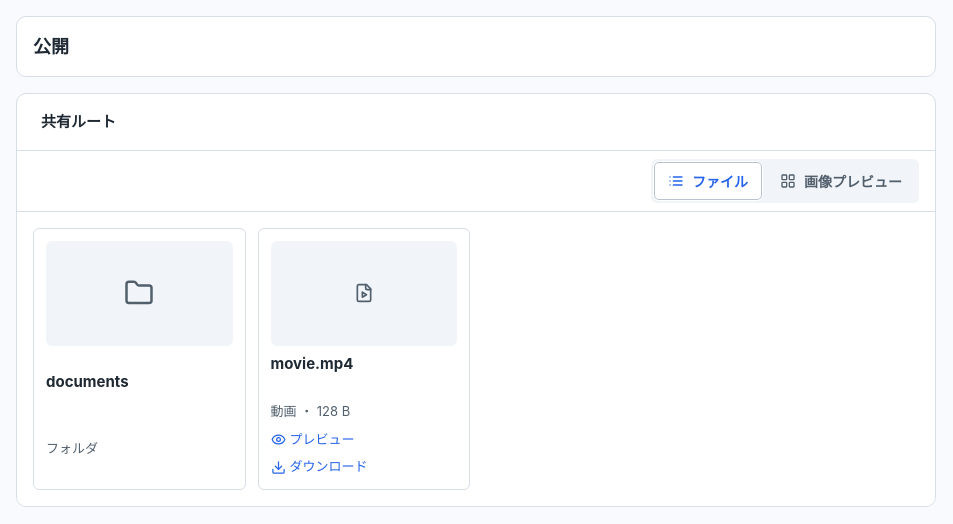
it: PublicSharePage password unlock › shows a folder share list and opens a subfolder
Expected: the text "documents" is shown, [46,372,129,391]
Expected: the text "movie.mp4" is shown, [270,354,353,373]
Click the button with aria-label "documents を開く". click: (139, 359)
box: [46,241,232,477]
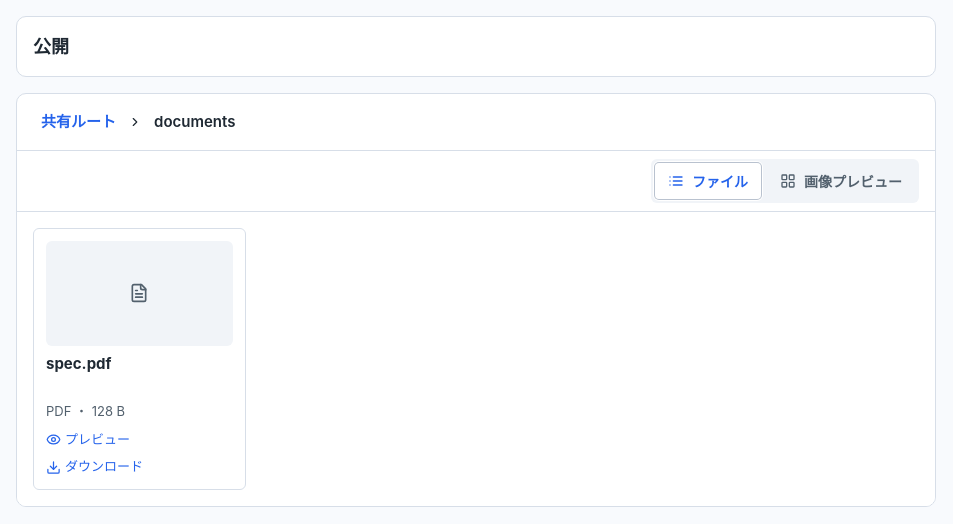
Now the text "spec.pdf" is shown, box [46,354,112,373]
Now the button "movie.mp4" is gone
